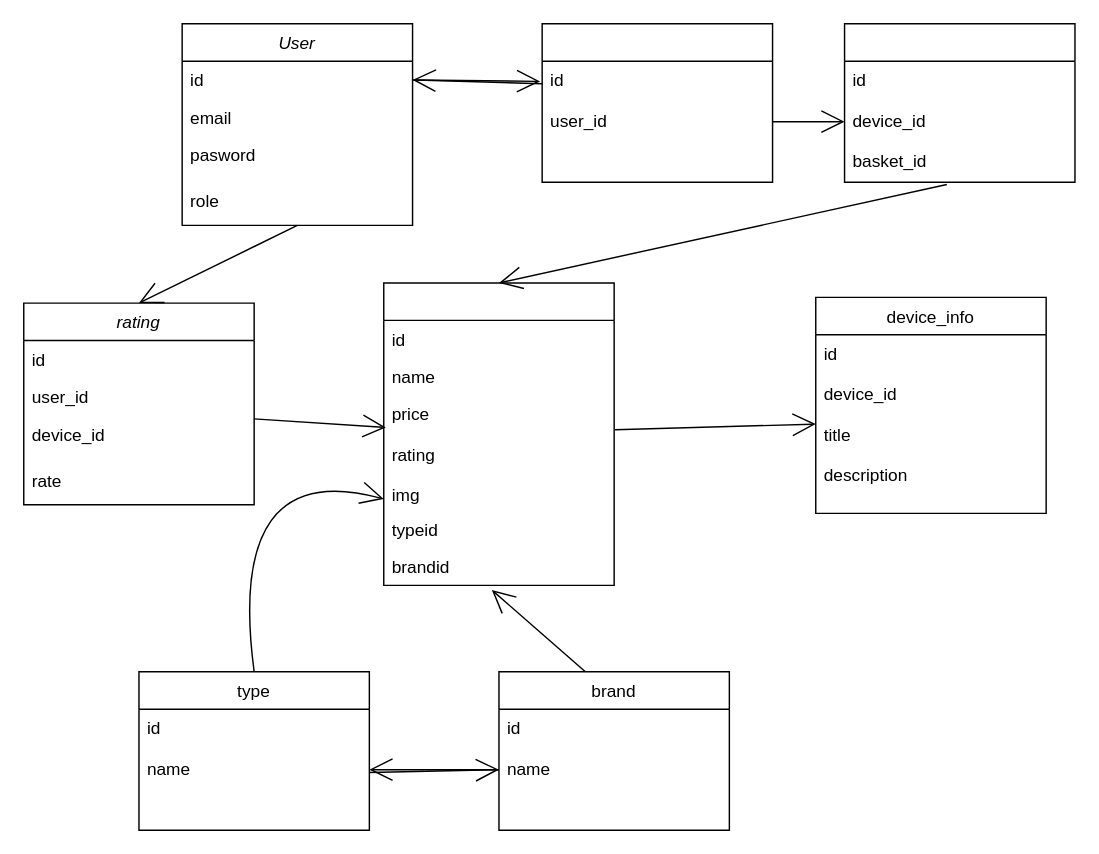
Image size: 1099x854. Some labels were removed from this diagram. The box of each missing label's shape, as (x1, y1, x2, y2) in pixels:
Basket: (541, 22, 773, 182)
basket-device: (843, 22, 1075, 182)
device: (382, 282, 614, 585)
